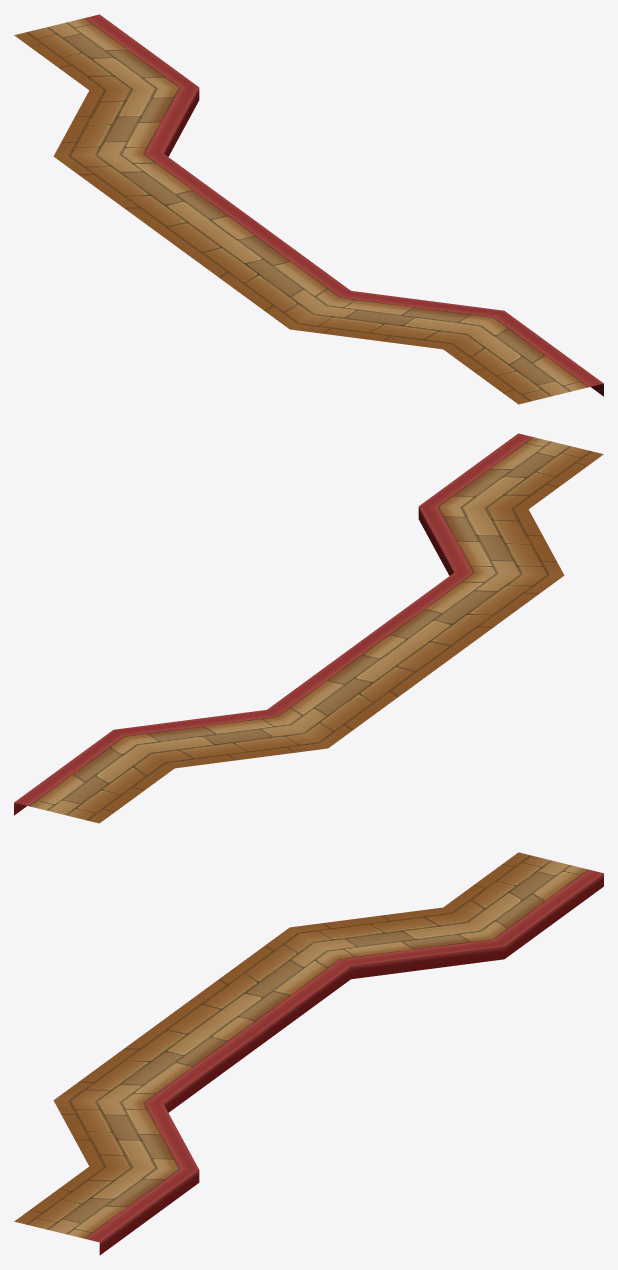
Rendered from MJ_Jsls_03.FBX.
The picture shows the model from 3 angles, top to bottom: view 1: azimuth 30°, elevation 25°; view 2: azimuth 150°, elevation 25°; view 3: azimuth 330°, elevation 25°; orthographic projection.
Visible parts, largest first — view 1: Object09; view 2: Object09; view 3: Object09.
Boxes of the visible parts, left/top/right/bottom form: Object09: left=14, top=14, right=603, bottom=404; Object09: left=14, top=433, right=603, bottom=823; Object09: left=14, top=852, right=603, bottom=1255.
Bounding box in the file's own units: 9.19 × 0.6441 × 44.57.
